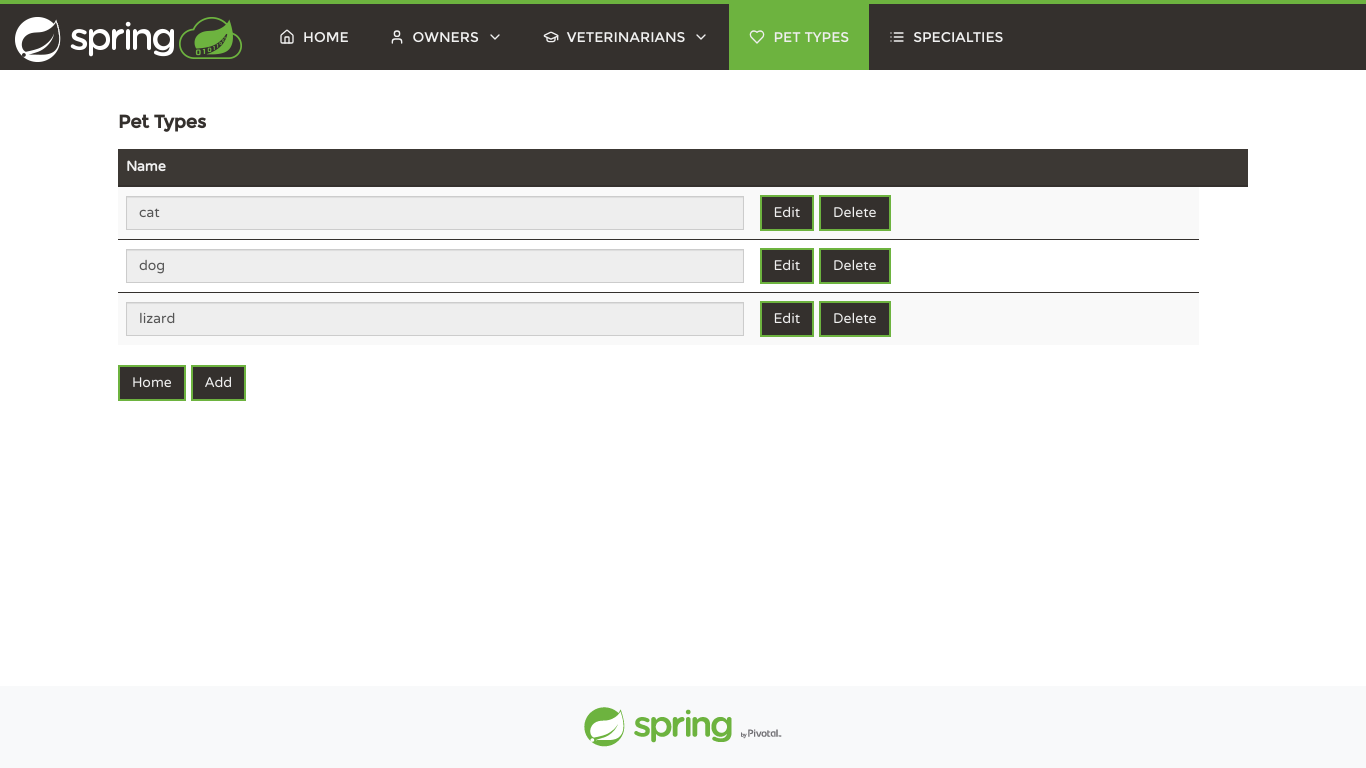
Test: PetTypeListPage › navigates to add and home
Click the button "Add".
click(218, 383)  # box [191, 365, 246, 401]
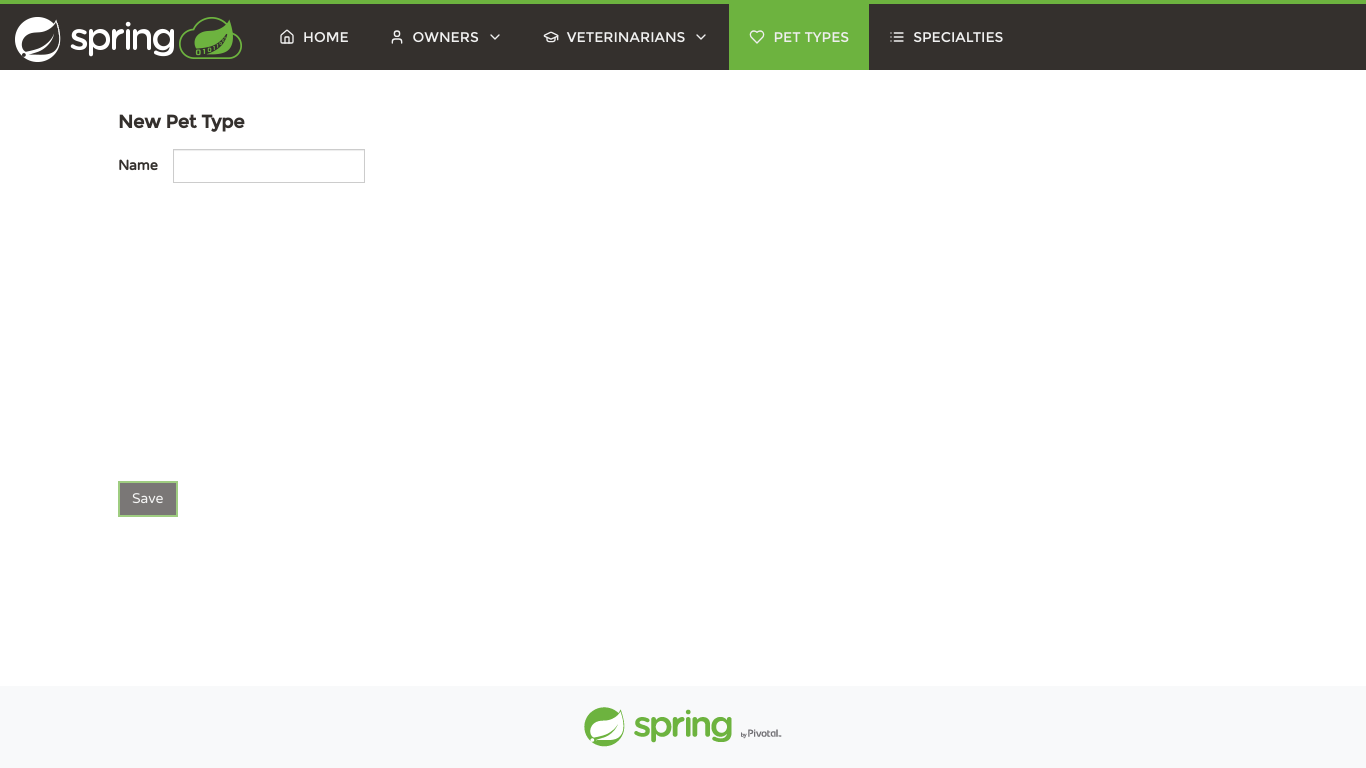
Expected: the heading reads "New Pet Type", [118, 112, 244, 132]
